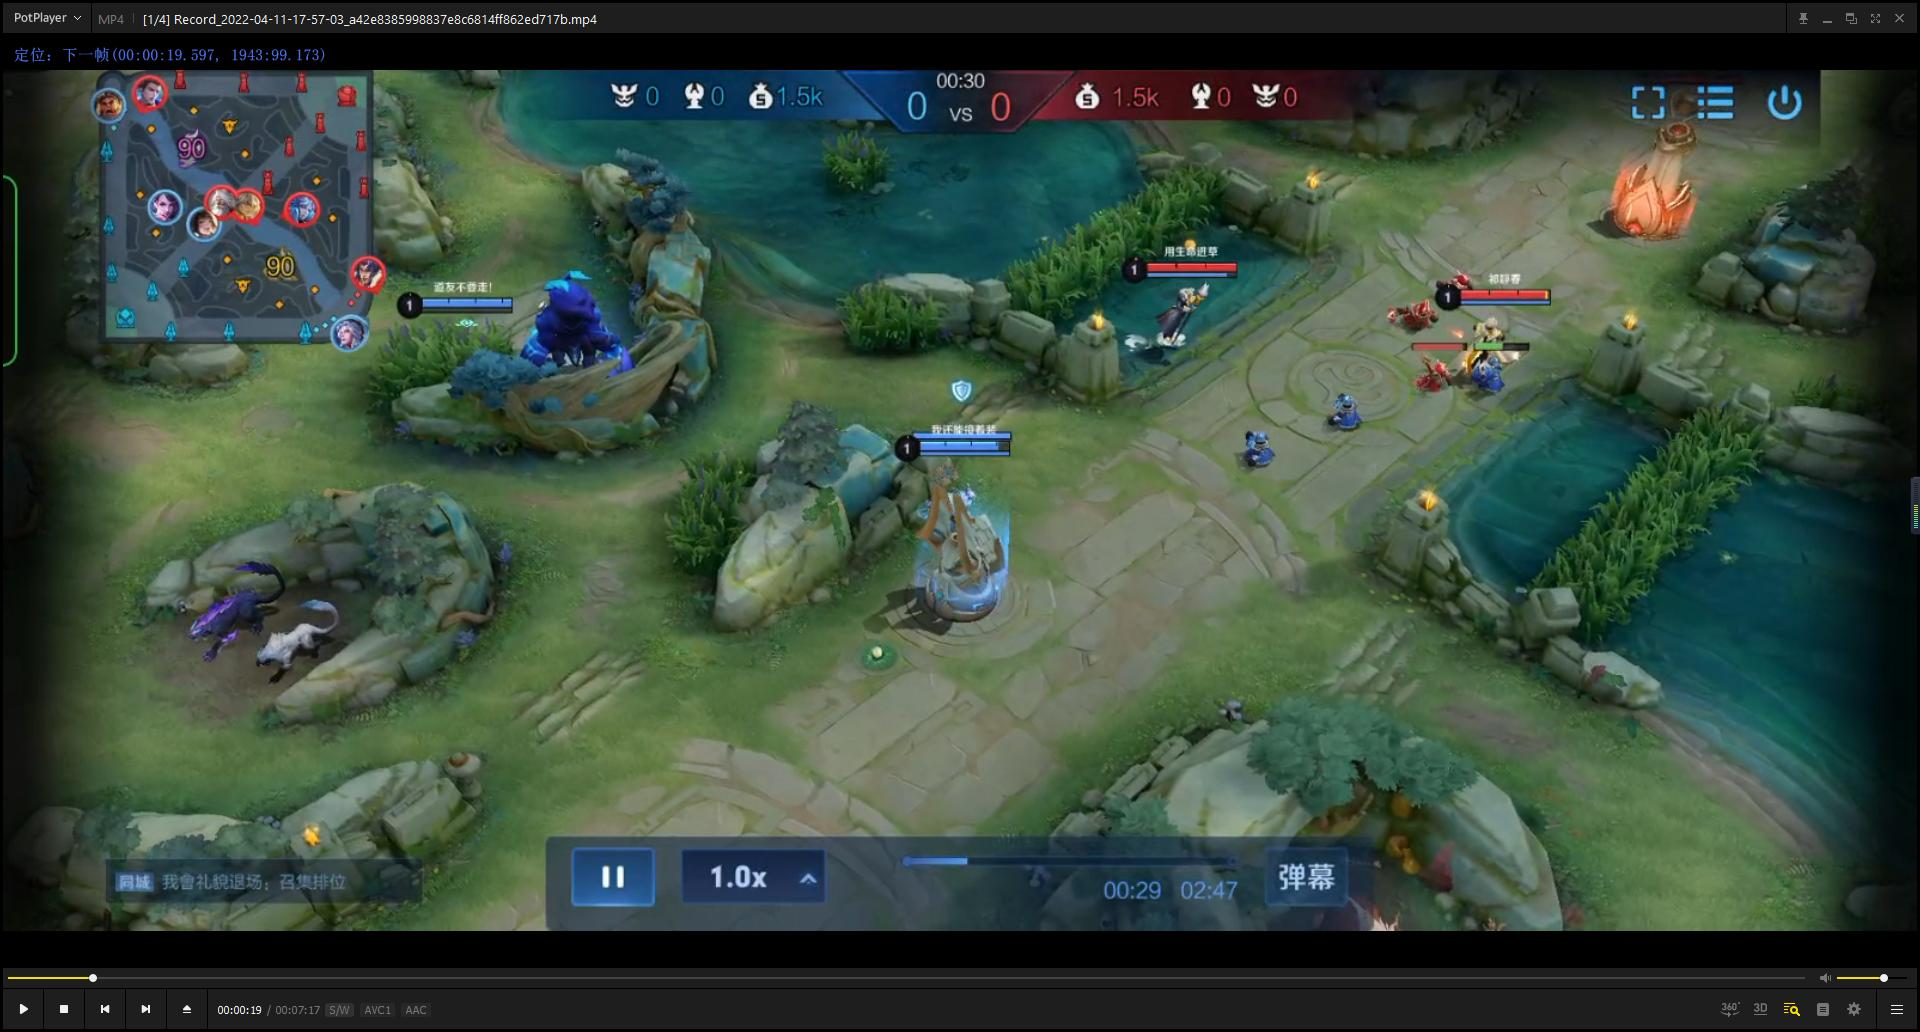Buff: (468, 248, 642, 377)
Hero: (1132, 283, 1247, 375), (1460, 314, 1517, 371)
Solider: (1388, 328, 1474, 402), (1463, 334, 1541, 398), (1313, 386, 1386, 452), (1233, 411, 1281, 511), (1363, 280, 1440, 341)
Tower: (870, 419, 1042, 660), (1581, 83, 1723, 241)
Wolf: (166, 531, 285, 657), (249, 590, 355, 705)
